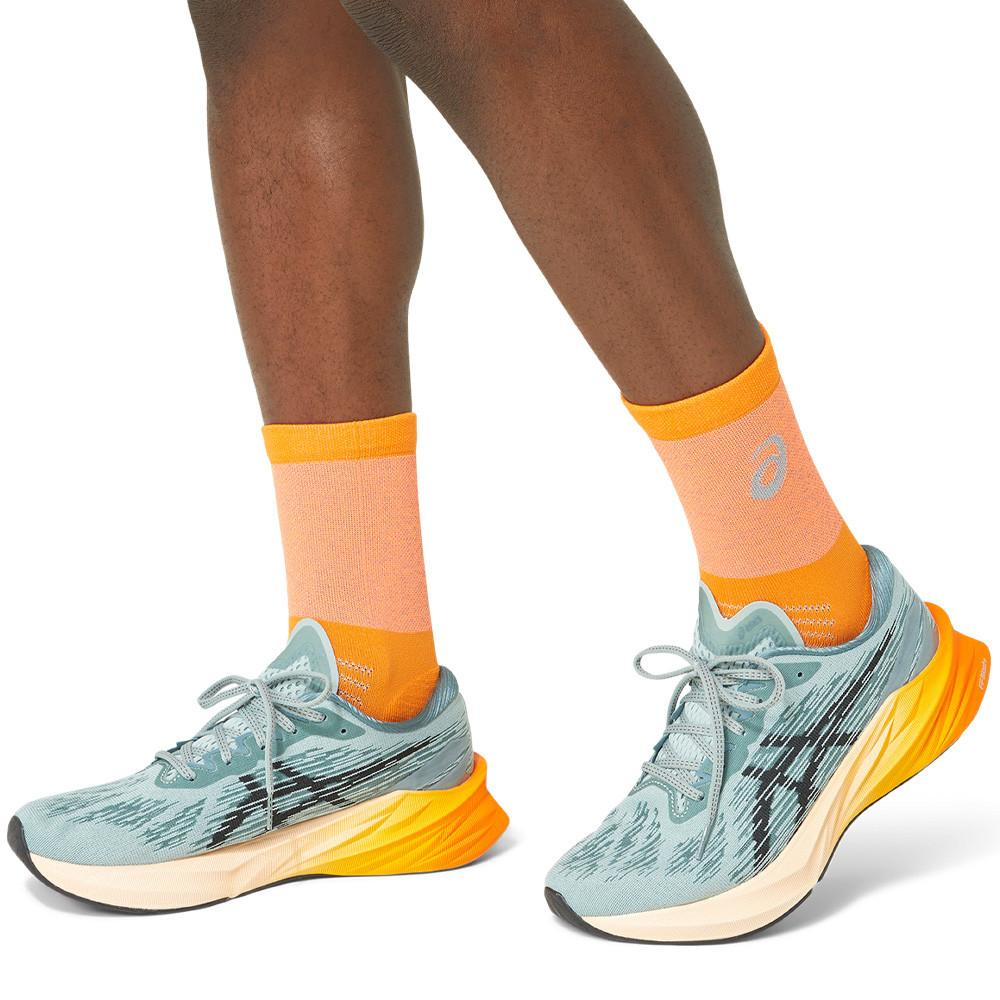asics logo: (729, 599, 917, 890), (196, 716, 460, 857)
sock logo: (636, 342, 884, 650)
